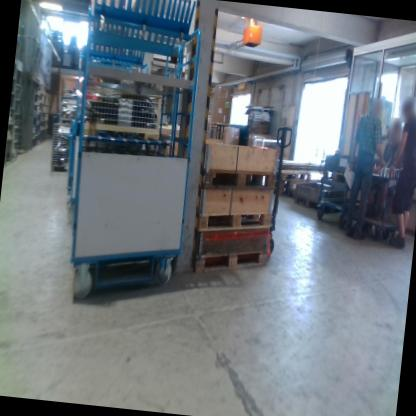pallet: (194, 203, 272, 242), (193, 242, 267, 283), (200, 165, 273, 196), (320, 166, 366, 187), (275, 170, 310, 184), (292, 196, 317, 210), (275, 180, 290, 187)
pallet_truck: (261, 118, 294, 261), (213, 121, 226, 146)
stillage: (76, 77, 163, 138), (47, 121, 74, 174)
